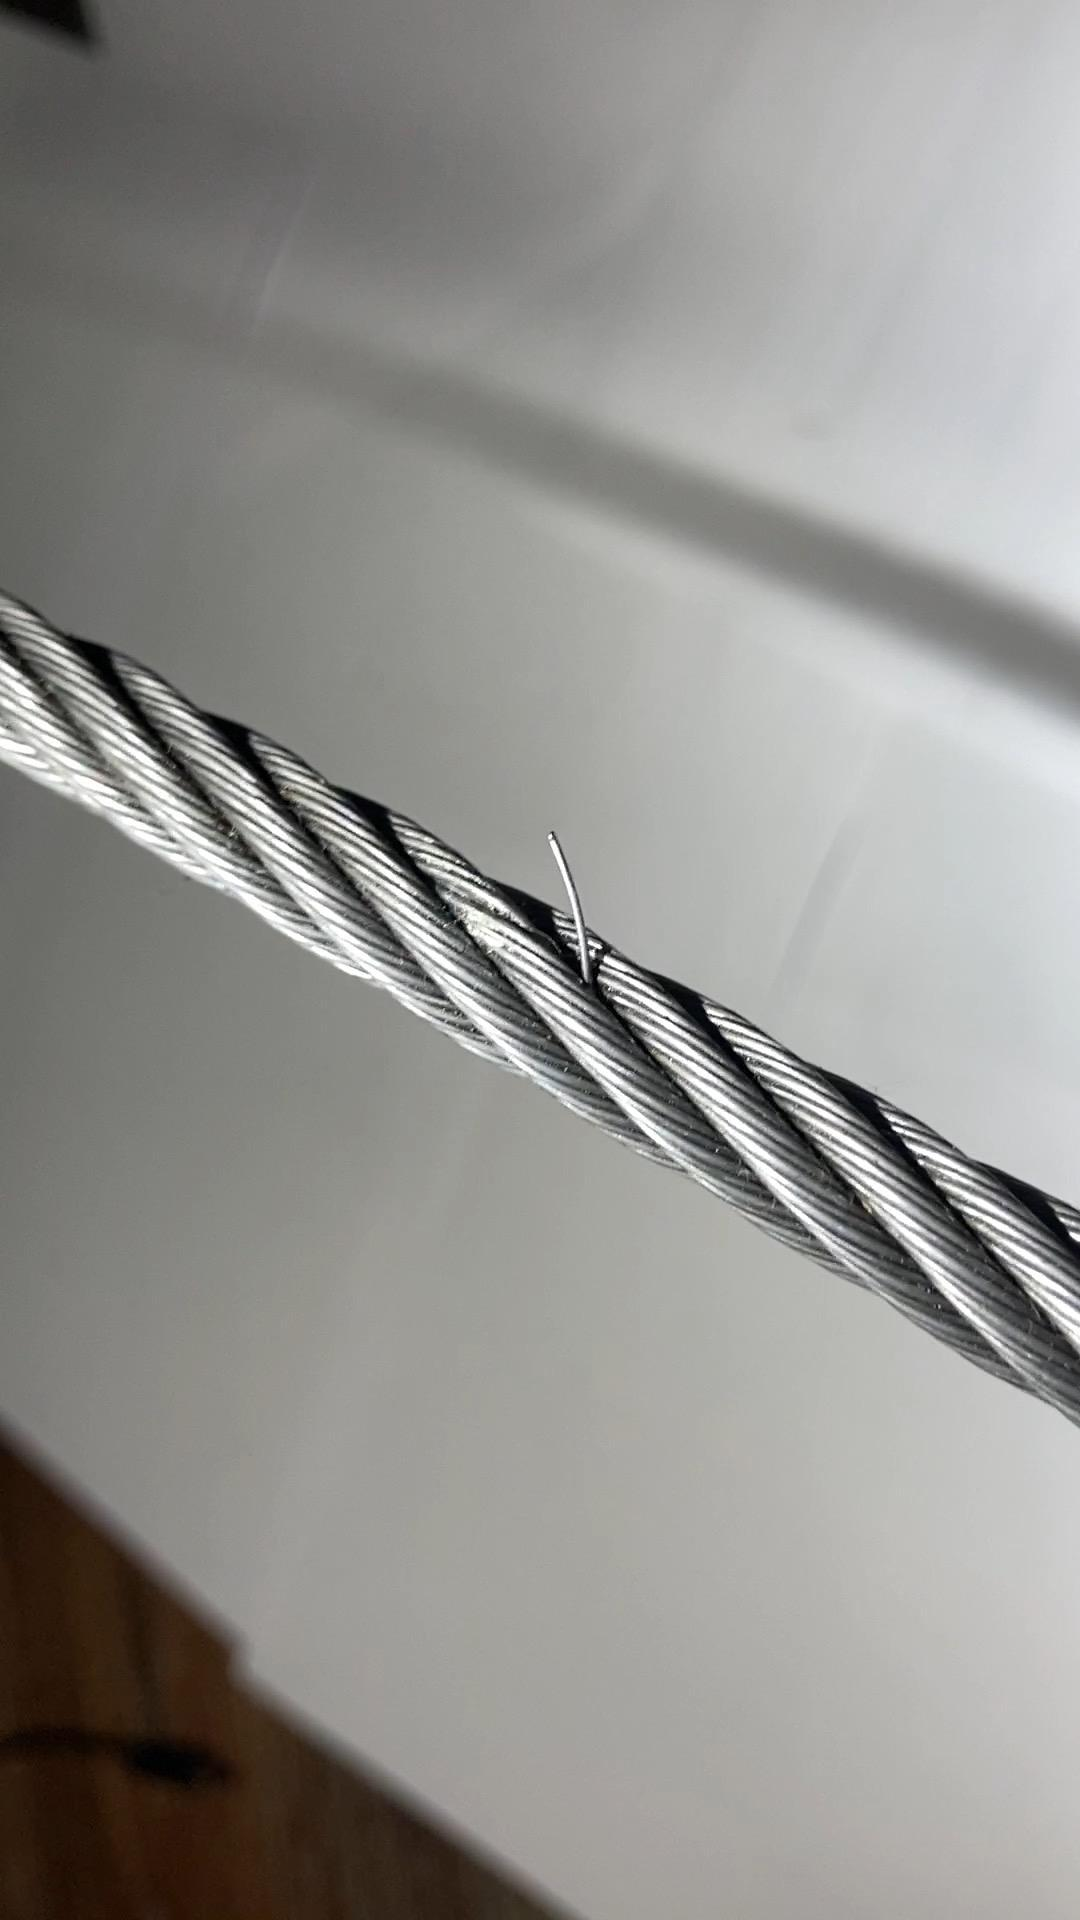break: (517, 804, 621, 980)
